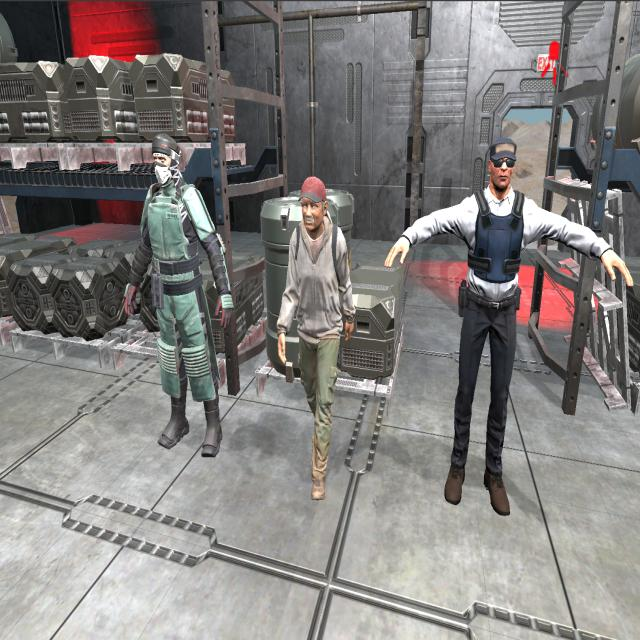thiefs: (268, 164, 362, 511)
